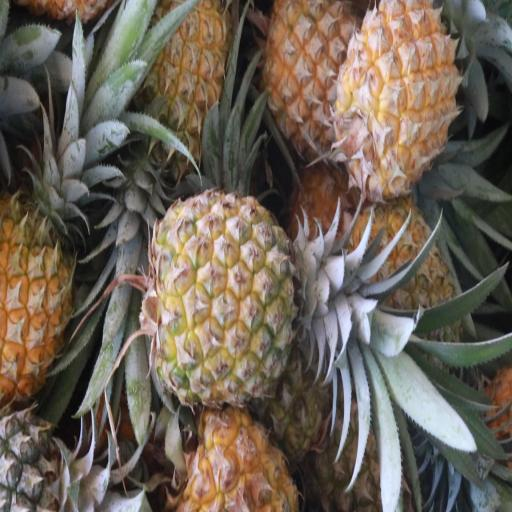------------------------------: (148, 198, 299, 405), (339, 204, 454, 374), (265, 0, 358, 162)
Pineapple - v8 v1: (336, 0, 456, 201), (0, 198, 77, 398), (141, 0, 226, 168)
